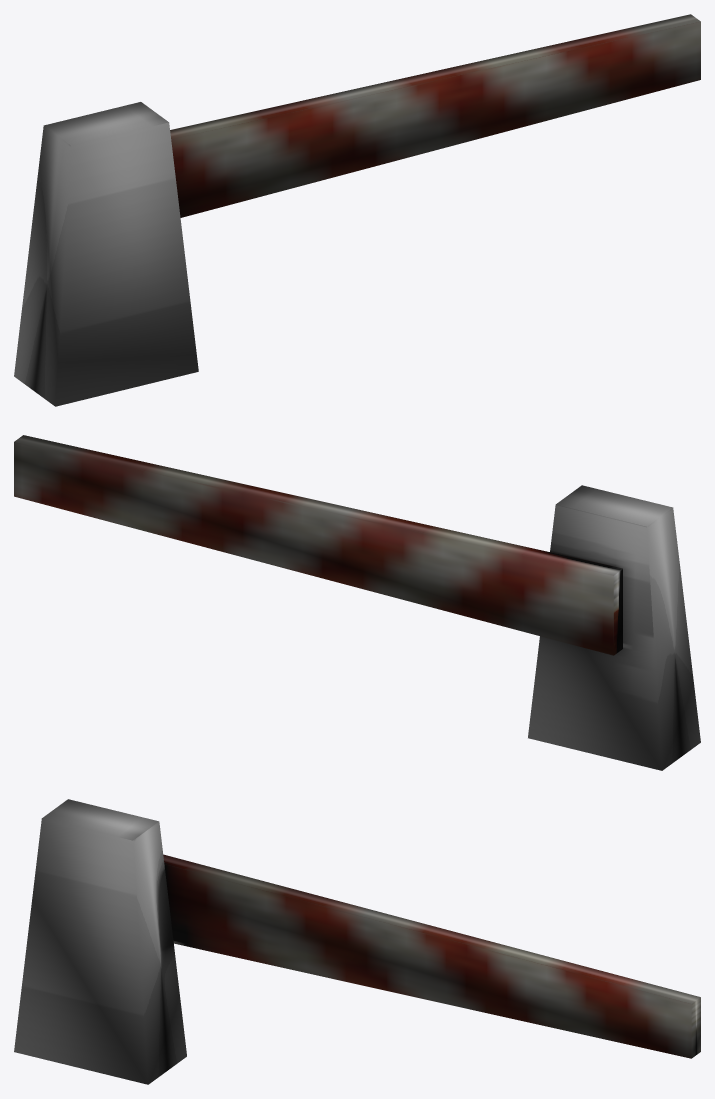
File: barrier.fbx
3 renders of one model, top to bottom at view 1: azimuth 30°, elevation 25°; view 2: azimuth 150°, elevation 25°; view 3: azimuth 330°, elevation 25°, orthographic. The views are drawn at different scales.
Visible parts, largest first — view 1: Pole; view 2: Pole; view 3: Pole.
Boxes of the visible parts, x1=… form: Pole: x1=14, y1=14, x2=700, y2=406; Pole: x1=14, y1=435, x2=700, y2=770; Pole: x1=14, y1=799, x2=700, y2=1084.
Bounding box in the file's own units: 0.0602 × 0.1699 × 0.4865.
Materials: 1 (1 with a texture image).
